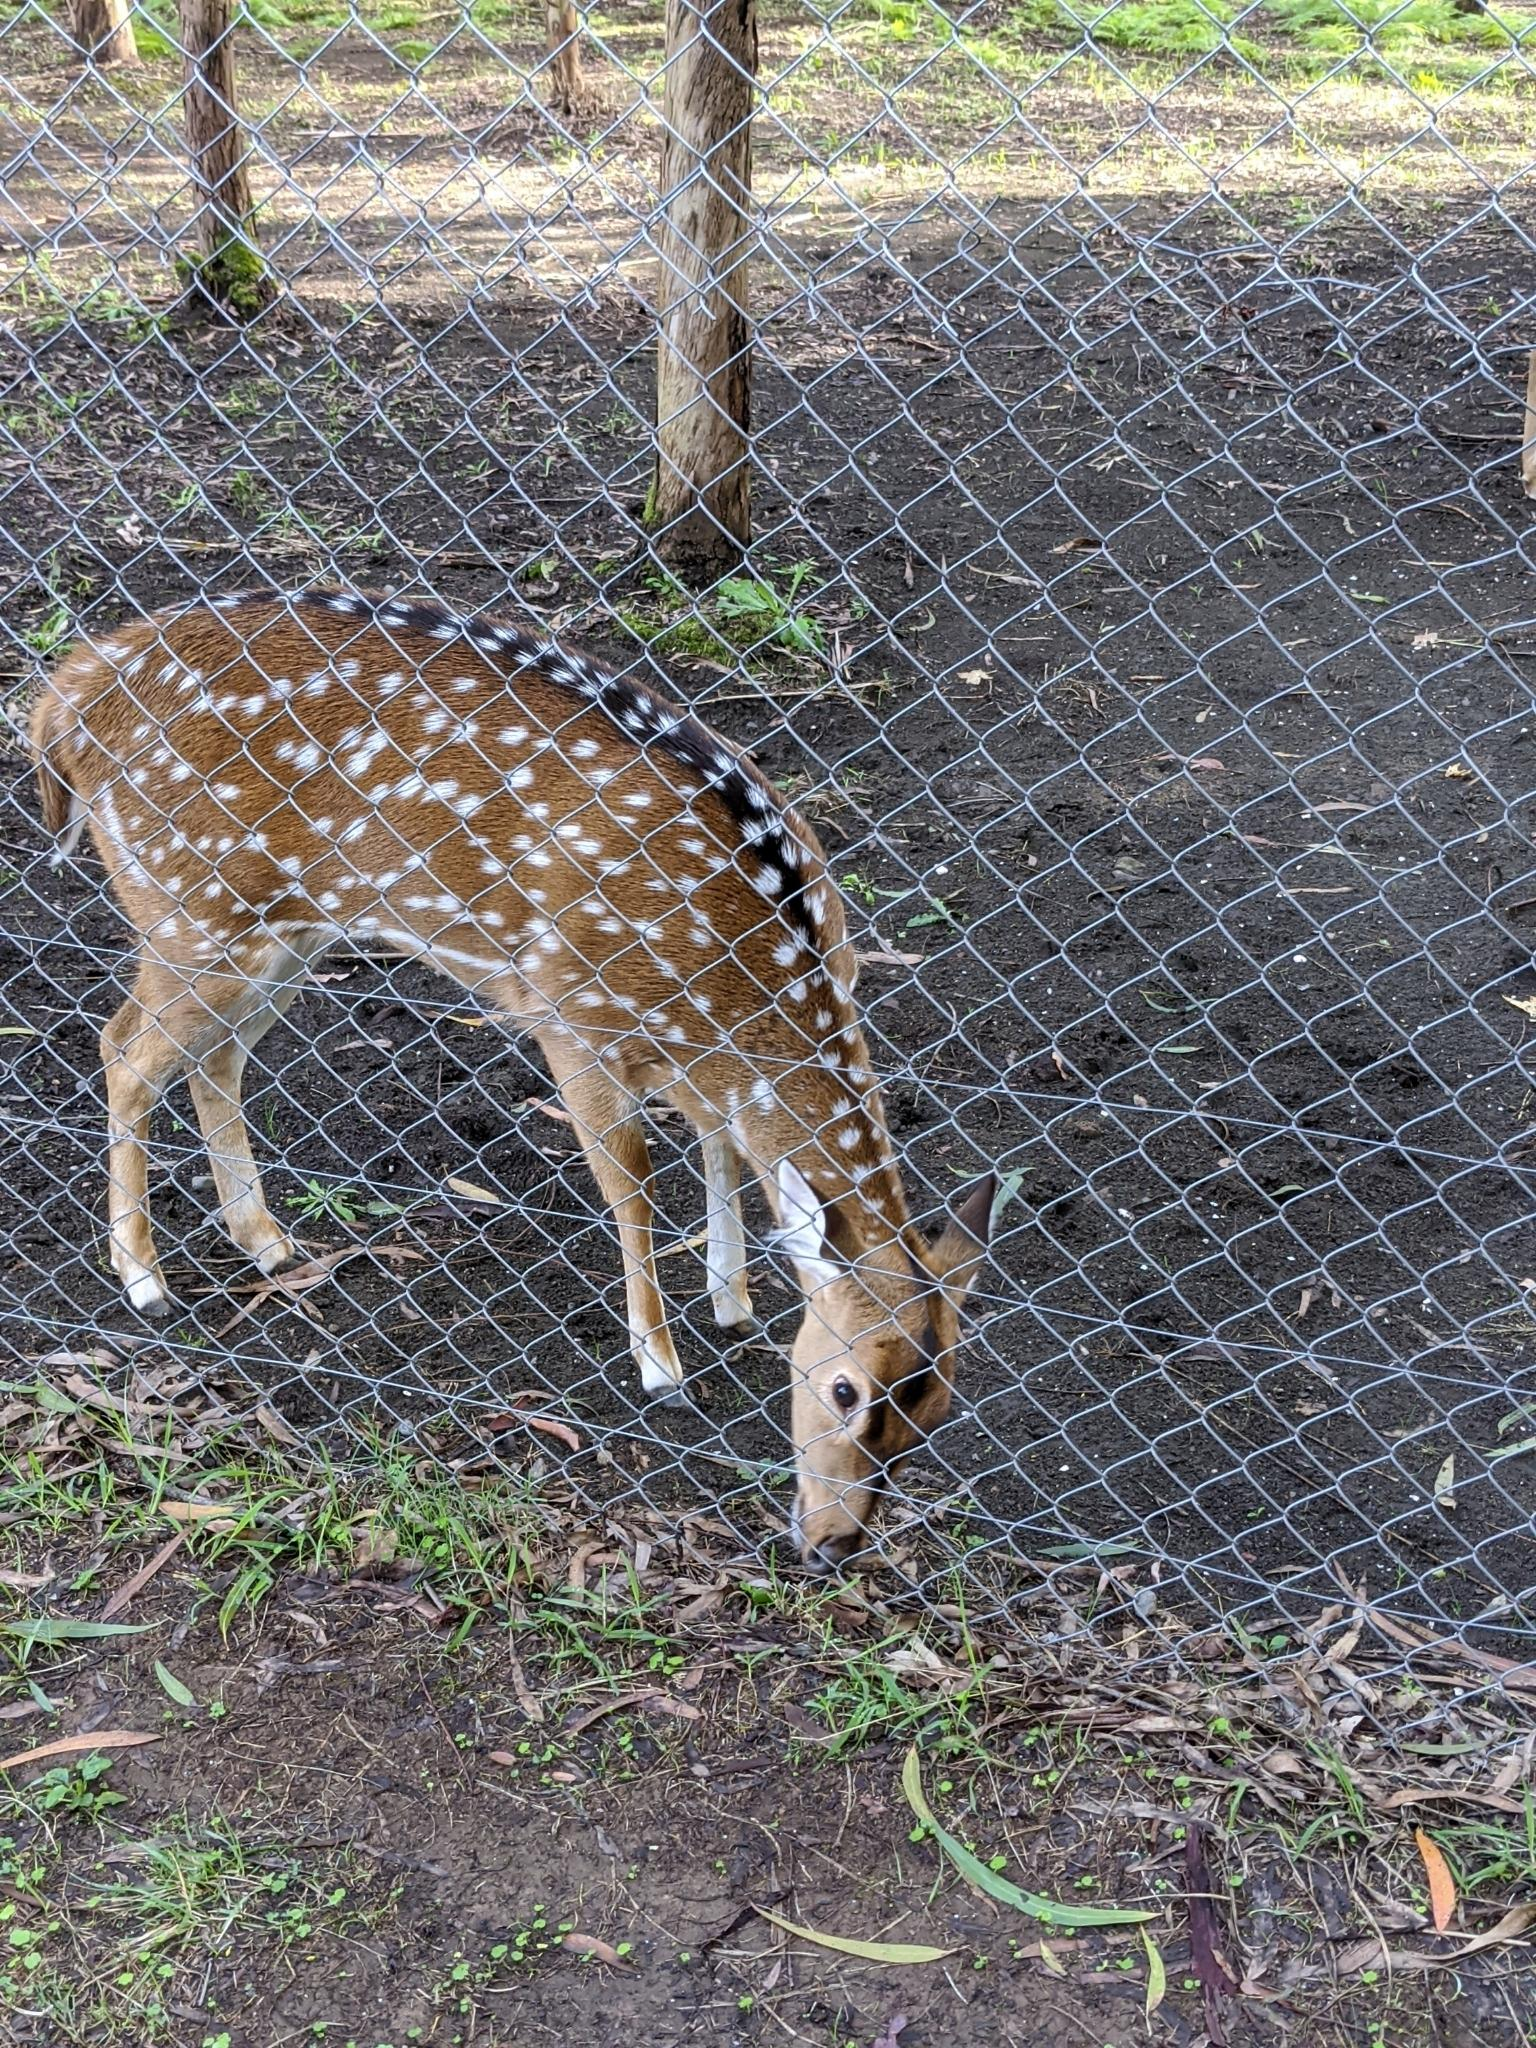Deer: (31, 587, 991, 1563)
